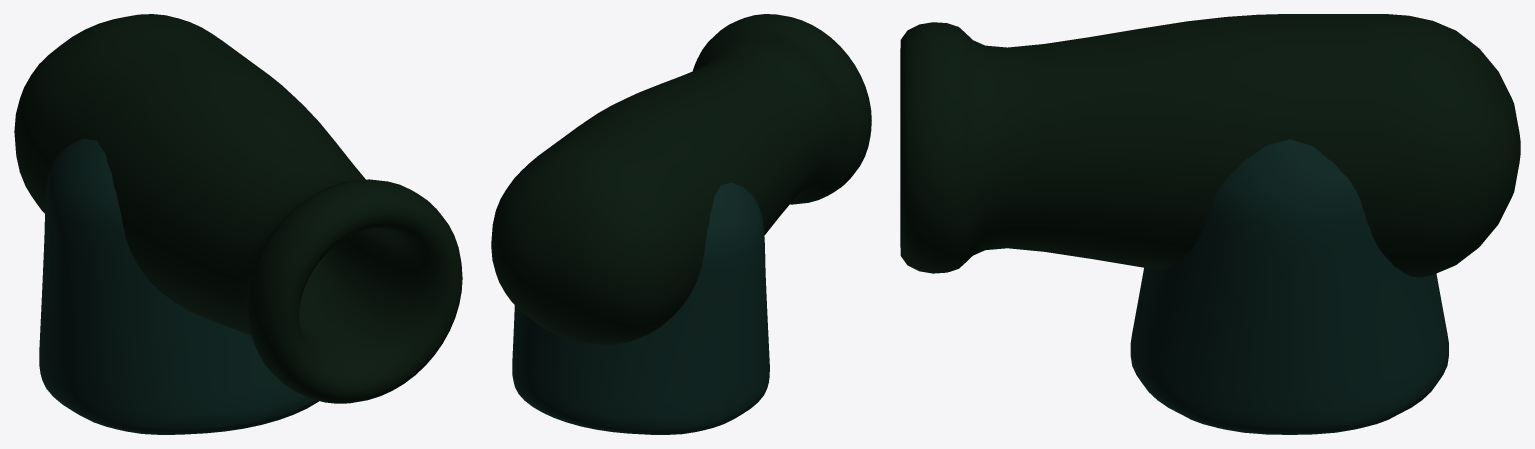
The model's file is DaveyJonesCanon01.dae.
3 renders of one model, left to right at view 1: azimuth 30°, elevation 25°; view 2: azimuth 150°, elevation 25°; view 3: azimuth 270°, elevation 25°, orthographic. The views are drawn at different scales.
Visible parts, largest first — view 1: DJCanonMain, DJCanonBase; view 2: DJCanonMain, DJCanonBase; view 3: DJCanonMain, DJCanonBase.
Part boxes in pixels (left/top/right/bottom): DJCanonMain: left=14, top=14, right=462, bottom=403; DJCanonBase: left=39, top=138, right=319, bottom=434; DJCanonMain: left=491, top=14, right=871, bottom=344; DJCanonBase: left=512, top=183, right=769, bottom=434; DJCanonMain: left=900, top=14, right=1520, bottom=277; DJCanonBase: left=1130, top=139, right=1448, bottom=434.
Size of the model in its own units: 1.06 by 2 by 1.24.
